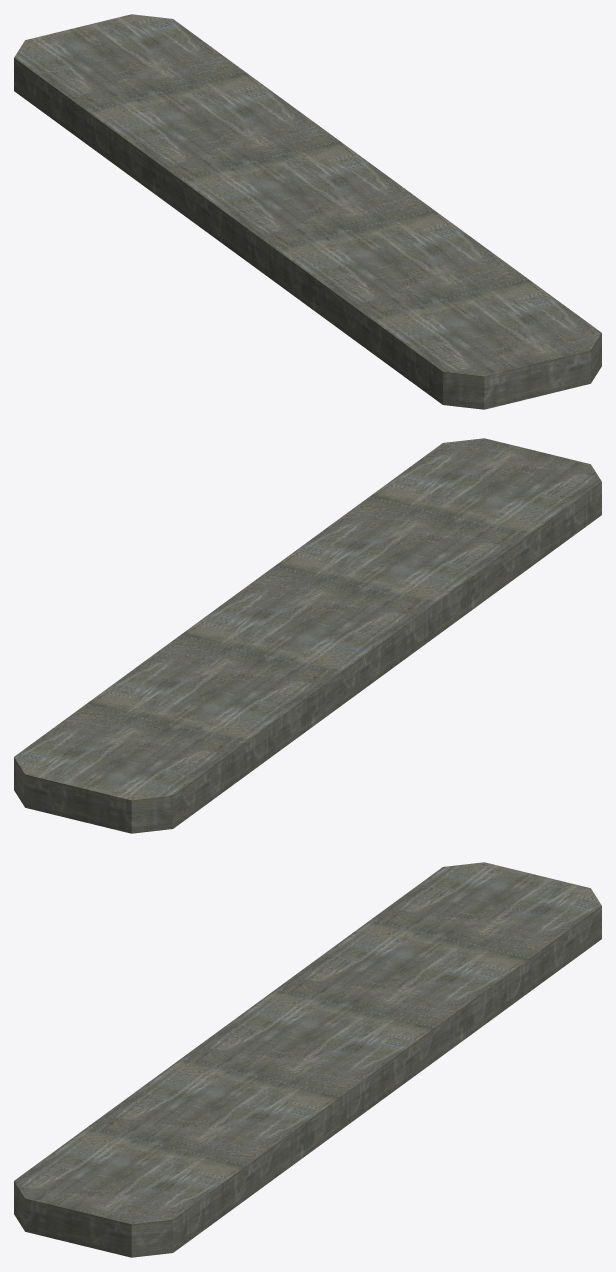
Rendered from RealityBridge_2x10.fbx.
3 views of the same model, one above another, from view 1: azimuth 30°, elevation 25°; view 2: azimuth 150°, elevation 25°; view 3: azimuth 330°, elevation 25° (orthographic).
Parts seen in each view (by area): view 1: RealityBridge_2x10; view 2: RealityBridge_2x10; view 3: RealityBridge_2x10.
Boxes of the visible parts, <box> form: RealityBridge_2x10: <box>14,14,601,409</box>; RealityBridge_2x10: <box>14,438,601,833</box>; RealityBridge_2x10: <box>14,862,601,1257</box>.
Bounding box in the file's own units: 200 × 40 × 1000.
